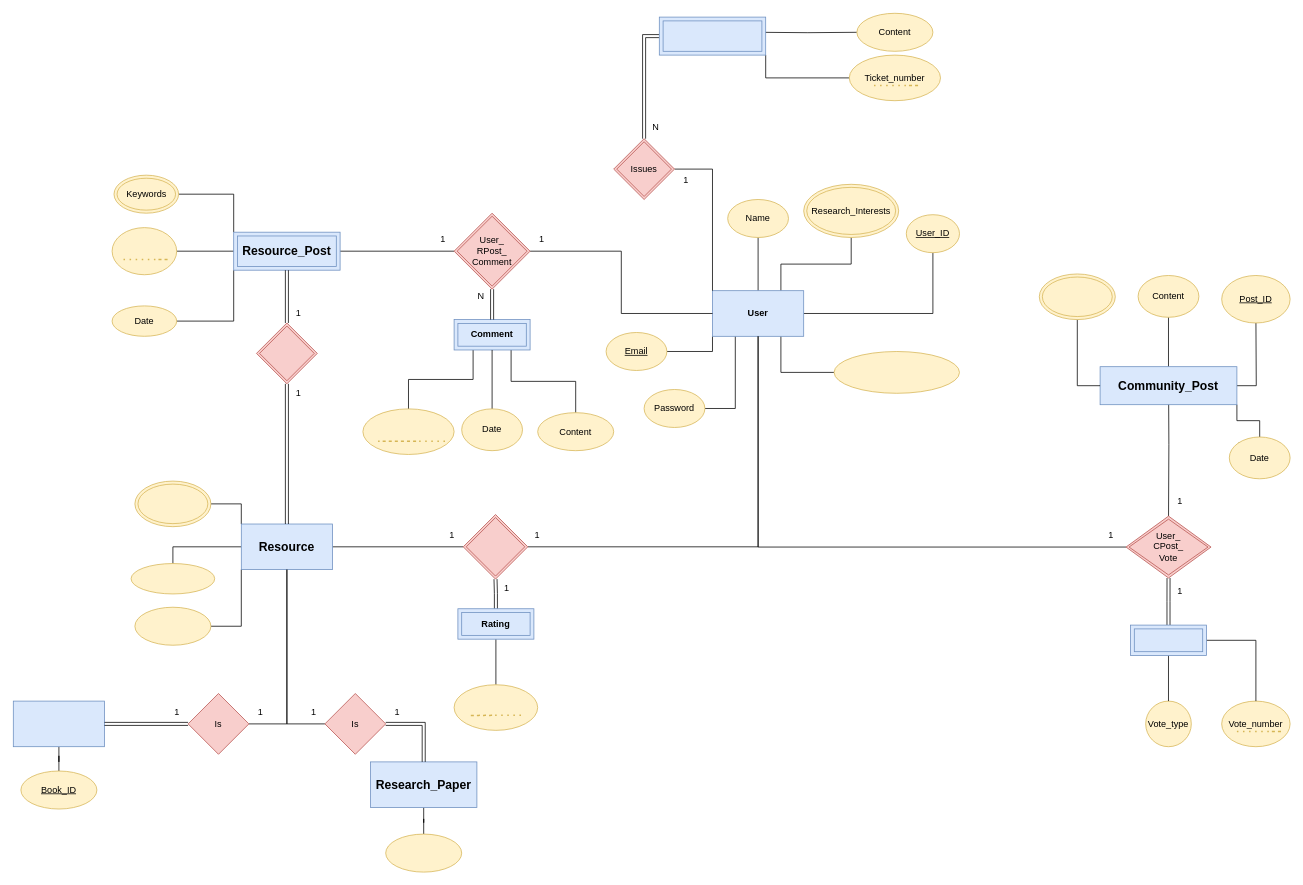
Image size: 1303x885. Some labels were removed from this diagram. Here are the shapes that lost their labels. From the top down, the centre of each, then its label:
[712,35]: Ticket
[144,251]: Post_number
[1077,296]: Attachment
[286,353]: Has
[896,372]: Google_Scholar_Account
[408,431]: Comment_number
[172,503]: Topic
[495,546]: User_ Resource_ Rating
[172,578]: Hyperlink
[172,625]: Resource_ID
[1168,640]: Vote
[58,723]: Textbook
[495,707]: Rating_number
[423,852]: Paper_ID
